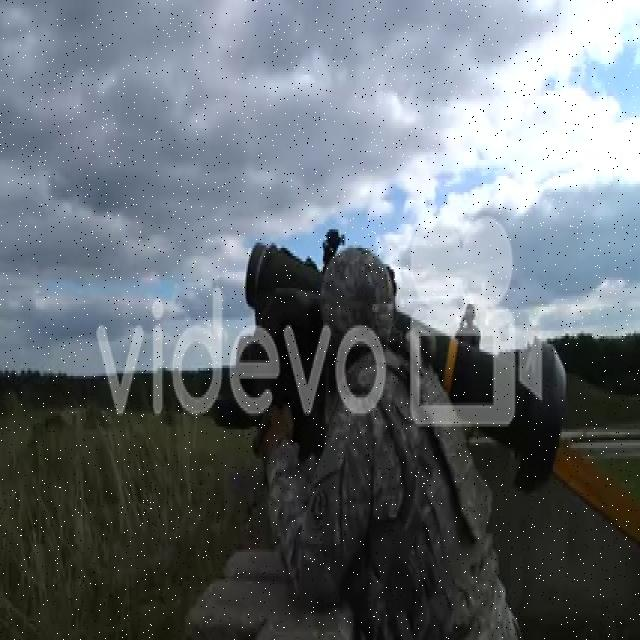bazooka: (244, 232, 579, 505)
